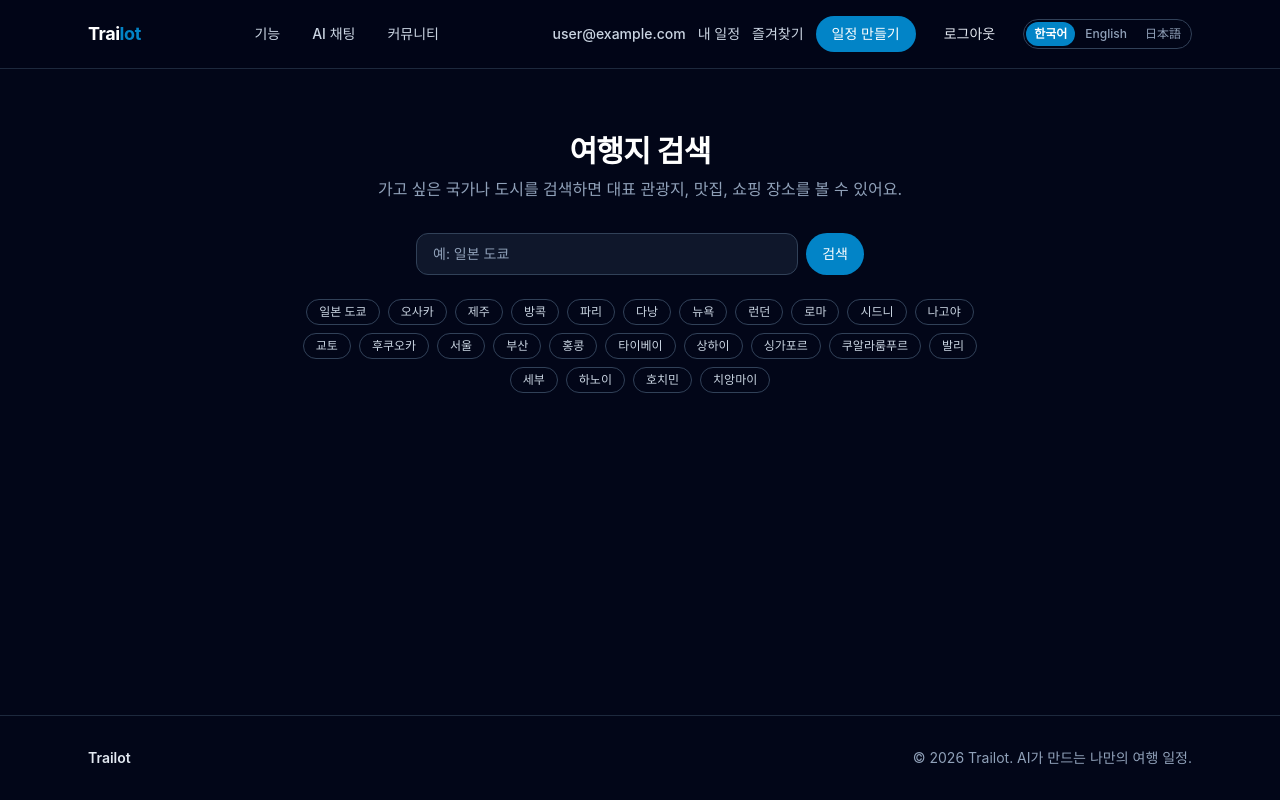
Scenario: DestinationSearchPage › lets me favorite a place directly from search results
Step 1. Click the button "제주" → (479, 312), box [455,299,503,325]
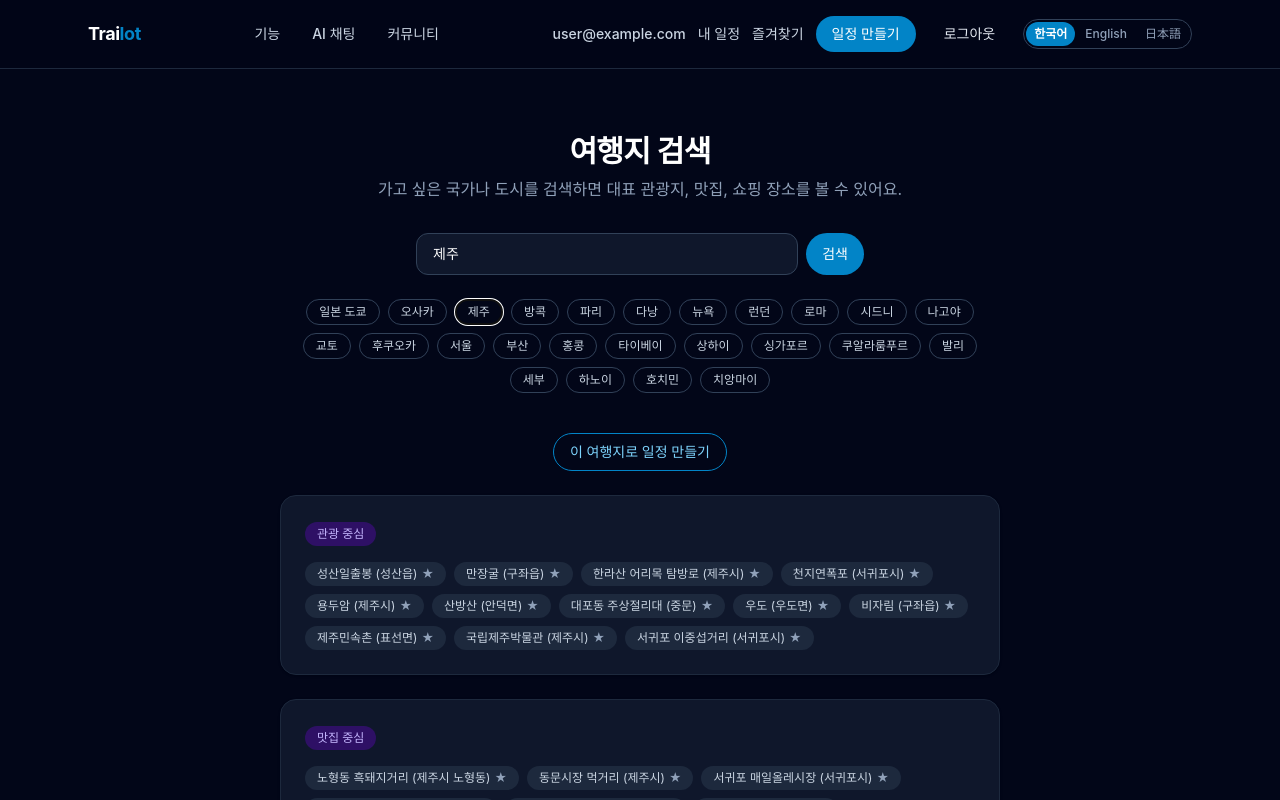
Step 2. Click the button named "성산일출봉 (성산읍) 즐겨찾기 추가" → (428, 574), box [422,566,434,582]
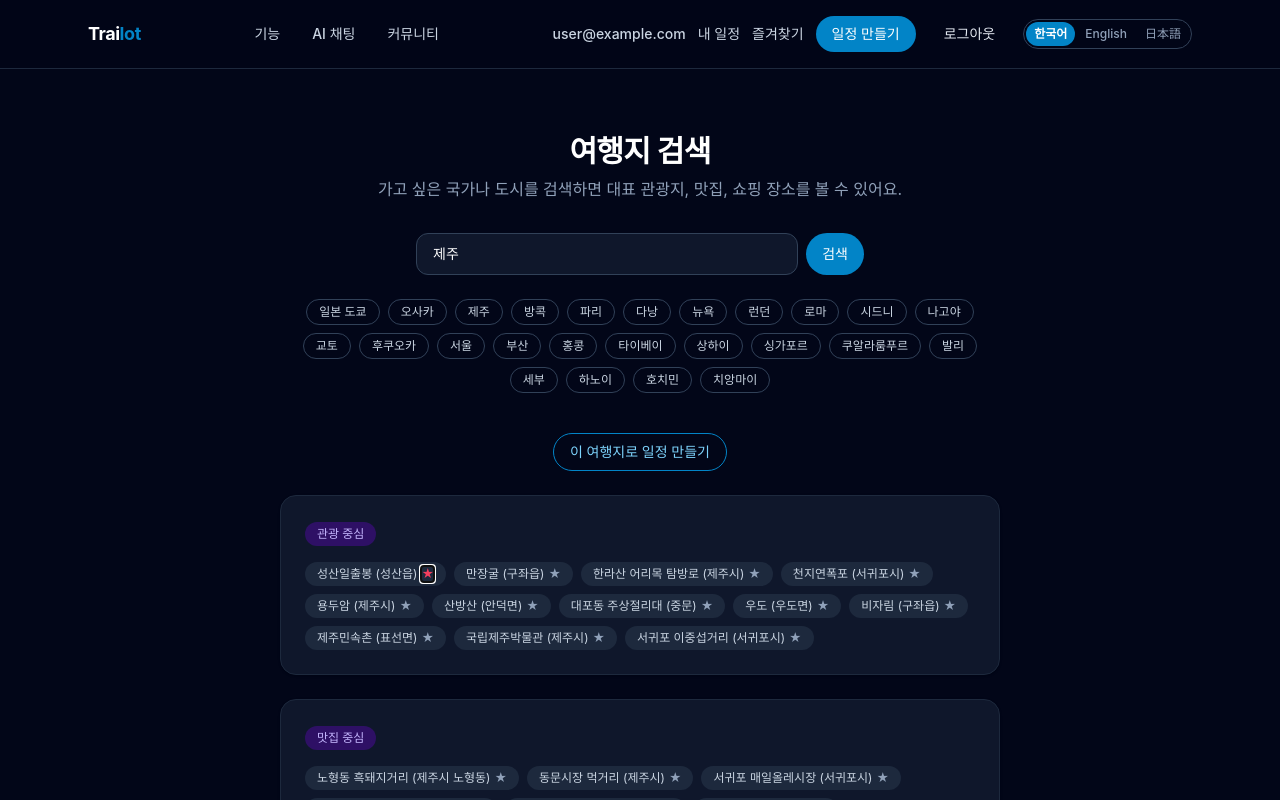
expect the button named "성산일출봉 (성산읍) 즐겨찾기 해제" is shown: met, box [422,566,434,582]
